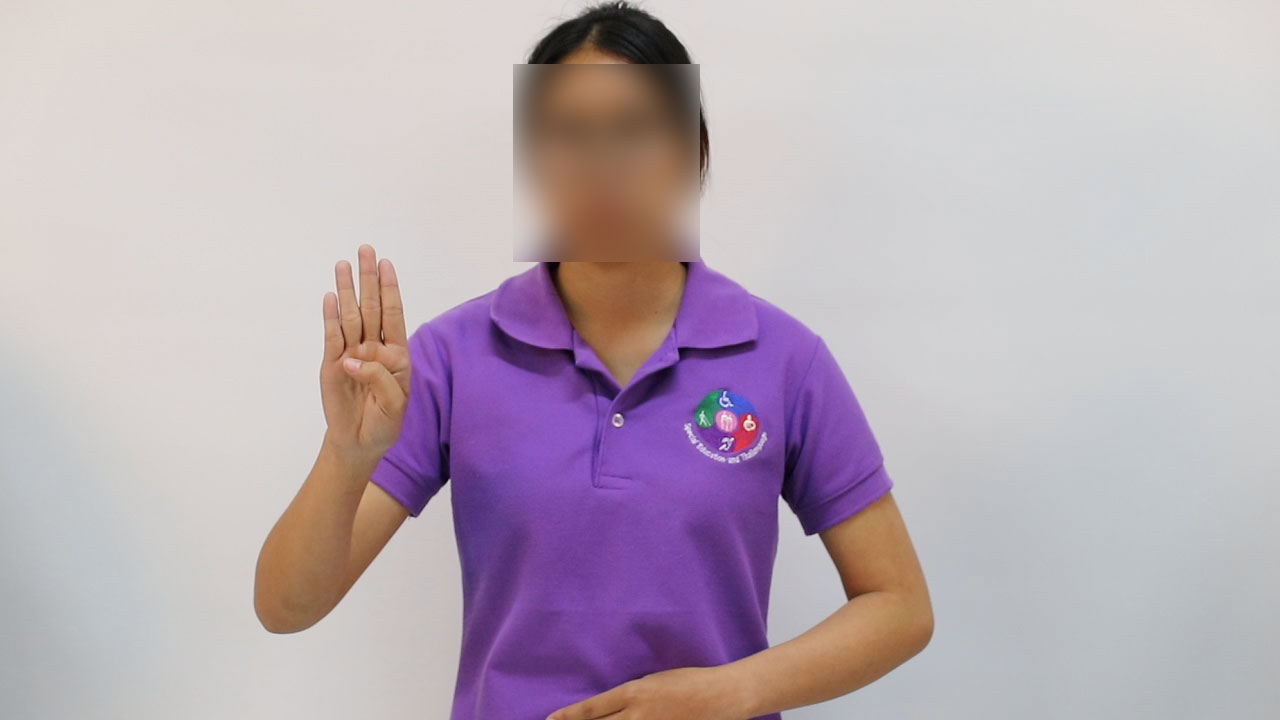bor: (299, 226, 428, 486)
